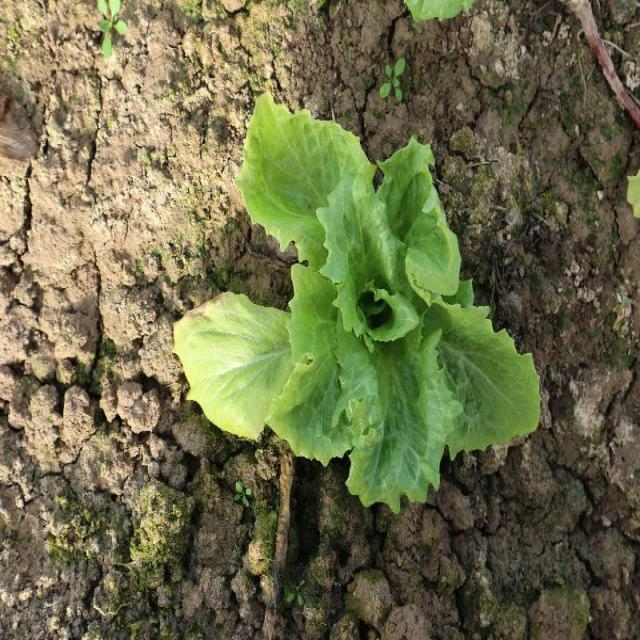crop: (172, 95, 543, 515)
